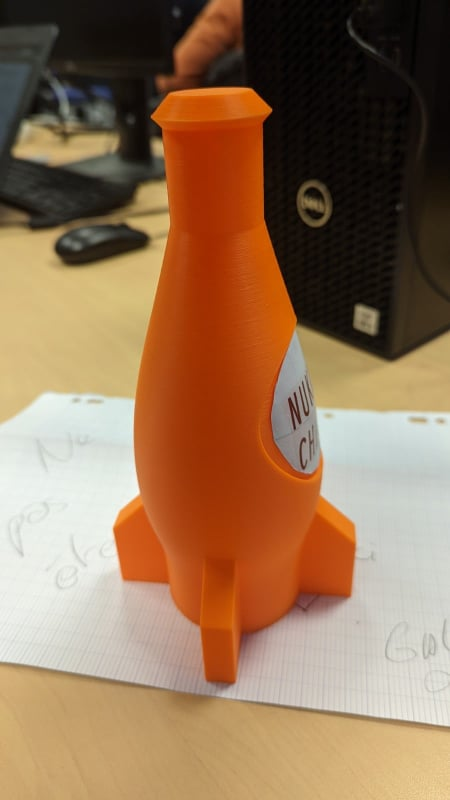bottle: (104, 76, 363, 695)
